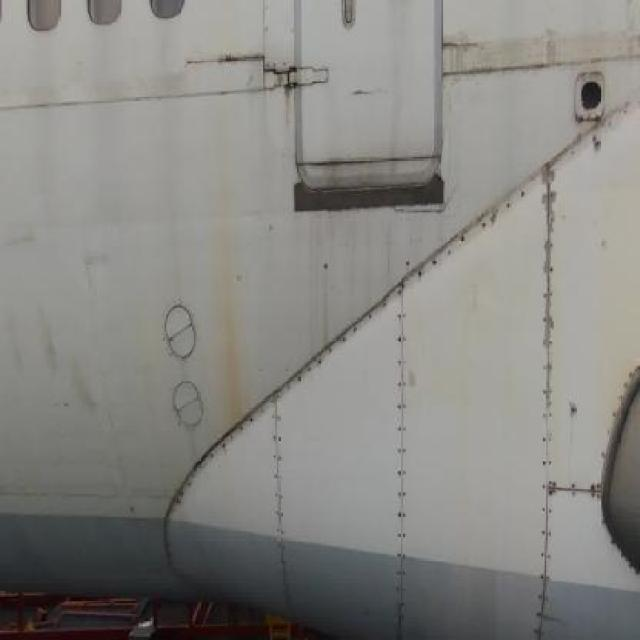Missing-Rivet: (534, 148, 558, 618), (413, 190, 530, 282), (294, 295, 392, 396), (178, 407, 264, 504), (393, 272, 412, 623), (267, 380, 295, 597), (569, 105, 640, 183), (563, 468, 602, 520)
Rust: (211, 218, 249, 434), (280, 55, 300, 127)
Scartch: (0, 298, 111, 432), (442, 26, 568, 105), (71, 242, 117, 322), (0, 218, 49, 268), (618, 0, 640, 85)
